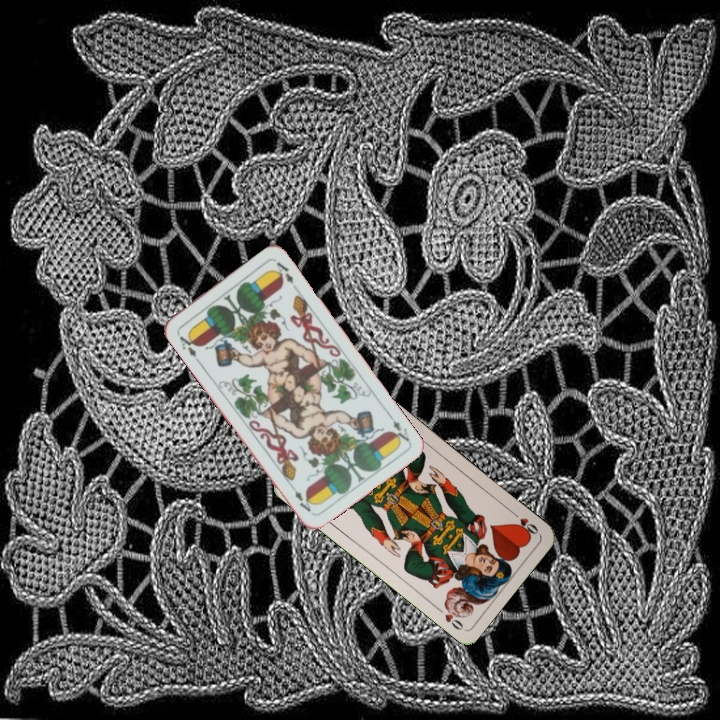EA: (384, 410, 412, 446), (173, 329, 200, 360)
HO: (507, 507, 541, 538)
